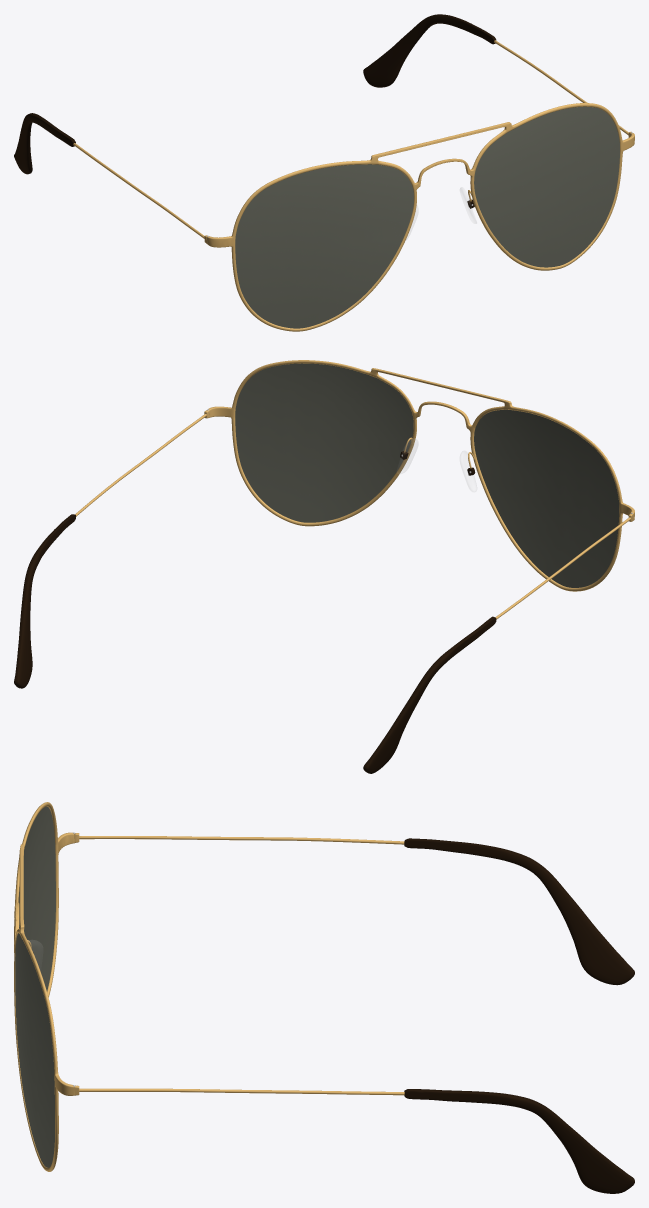
Rendered from glasses-aviator.glb.
3 renders of one model, top to bottom at view 1: azimuth 30°, elevation 25°; view 2: azimuth 150°, elevation 25°; view 3: azimuth 270°, elevation 25°, orthographic. The views are drawn at different scales.
Visible parts, largest first — view 1: Aviators_Glass tinted_0, Aviators_Gold metallic_0; view 2: Aviators_Glass tinted_0, Aviators_Gold metallic_0, Aviators_Transparent_0; view 3: Aviators_Gold metallic_0, Aviators_Glass tinted_0.
Part boxes in pixels (bbox=[...]): Aviators_Glass tinted_0: bbox=[235, 106, 619, 328]; Aviators_Gold metallic_0: bbox=[14, 14, 634, 331]; Aviators_Glass tinted_0: bbox=[235, 363, 619, 587]; Aviators_Gold metallic_0: bbox=[14, 360, 634, 773]; Aviators_Transparent_0: bbox=[397, 439, 476, 491]; Aviators_Gold metallic_0: bbox=[14, 802, 634, 1193]; Aviators_Glass tinted_0: bbox=[15, 806, 55, 1167].
Size of the model in its own units: 13.96 by 5.22 by 14.4.
3 materials, 3 textured.
